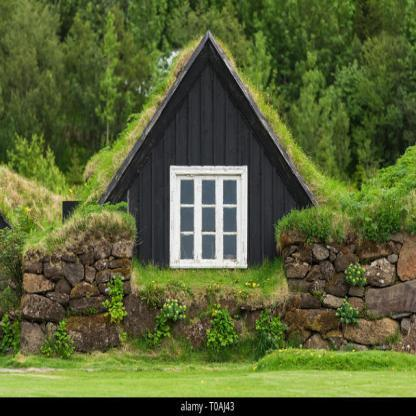Building Outline: (20, 29, 416, 356)
Facade: (134, 145, 277, 355)
Ground Floor: (134, 145, 277, 356)
Window: (170, 166, 247, 269)
